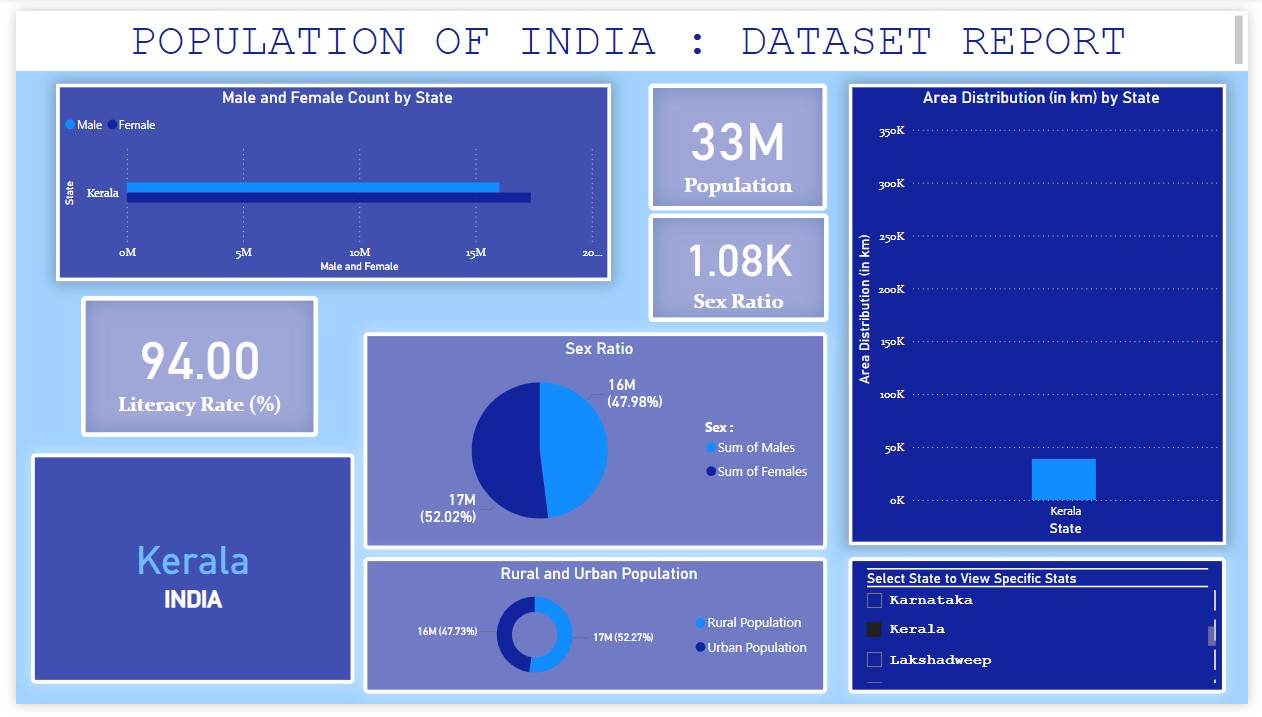

What the dashboard file says about the page in this screenshot:
{"tool":"powerbi","page":{"name":"POPULATION OF INDIA : DATASET ANALYSIS","canvas":[1280,720],"ordinal":0},"visuals":[{"type":"clusteredBarChart","title":"Male and Female Count by State","fields":{"Category":["population.State"],"Y":["Sum(population.Males)","Sum(population.Females)"]},"box":[42,75.4,576.8,205.8],"z":0},{"type":"clusteredColumnChart","fields":{"Category":["population.State"],"Y":["Sum(population.Area (km*km))"]},"box":[865.2,75.4,392.8,479.7],"z":1000},{"type":"card","fields":{"Values":["Sum(population.Population)"]},"box":[656.5,75.4,185.5,131.9],"z":2000},{"type":"card","fields":{"Values":["Avg(population.Literacy Rate (%))"]},"box":[68.1,295.7,246.4,146.4],"z":3000},{"type":"pieChart","title":"Sex Ratio","fields":{"Y":["Sum(population.Males)","Sum(population.Females)"]},"box":[361,333.8,481.8,226],"z":4000},{"type":"donutChart","title":"Rural and Urban Population","fields":{"Y":["Sum(population.Rural Population)","Sum(population.Urban Population)"]},"box":[361.2,567.5,481.2,141.2],"z":5000},{"type":"card","fields":{"Values":["Avg(population.Sex Ratio)"]},"box":[656.5,210.1,187,113],"z":6000},{"type":"slicer","fields":{"Values":["population.State"]},"box":[865.4,566.9,392.3,141.5],"z":7000},{"type":"card","fields":{"Values":["Min(population.State)"]},"box":[15.6,459.7,336.4,239],"z":8000},{"type":"textbox","box":[0,0,1279.7,62.3],"z":9000}]}

Visuals, with their boxes in screenshot pixels (x1, y1, x2, y2), scaled from the page's 1280x720 canvas onto the 1262x717 screenshot:
"Male and Female Count by State" clusteredBarChart: select_region(41, 75, 610, 280)
clusteredColumnChart - population.State x Sum(population.Area (km*km)): select_region(853, 75, 1240, 553)
card - Sum(population.Population): select_region(647, 75, 830, 206)
card - Avg(population.Literacy Rate (%)): select_region(67, 294, 310, 440)
"Sex Ratio" pieChart: select_region(356, 332, 831, 557)
"Rural and Urban Population" donutChart: select_region(356, 565, 831, 706)
card - Avg(population.Sex Ratio): select_region(647, 209, 832, 322)
slicer - population.State: select_region(853, 565, 1240, 705)
card - Min(population.State): select_region(15, 458, 347, 696)
textbox: select_region(0, 0, 1261, 62)
